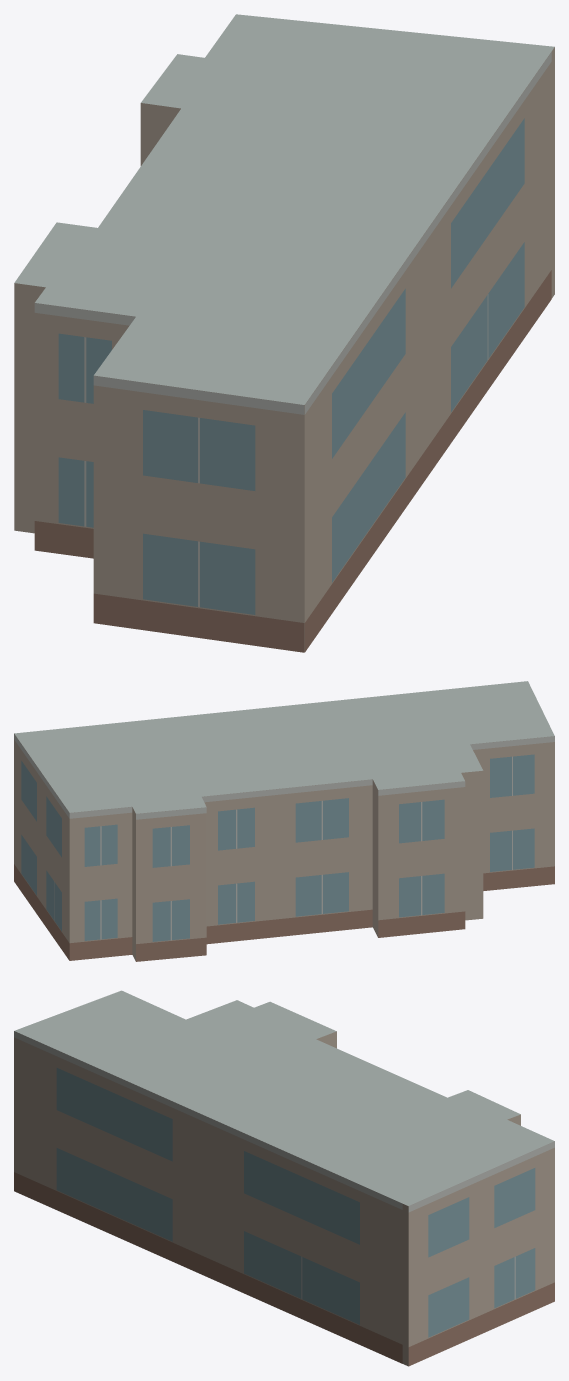
Rendered from survey-upis-32778308.glb.
3 renders of one model, top to bottom at view 1: azimuth 30°, elevation 25°; view 2: azimuth 150°, elevation 25°; view 3: azimuth 270°, elevation 25°, orthographic. The views are drawn at different scales.
Parts seen in each view (by area): view 1: survey-upis-32778308.tmp; view 2: survey-upis-32778308.tmp; view 3: survey-upis-32778308.tmp.
Boxes of the visible parts, box(x1,y1,x2,y2) form: survey-upis-32778308.tmp: box(14, 14, 554, 652); survey-upis-32778308.tmp: box(14, 681, 554, 961); survey-upis-32778308.tmp: box(14, 990, 554, 1366).
Size of the model in its own units: 17.61 by 6.1 by 18.66.
